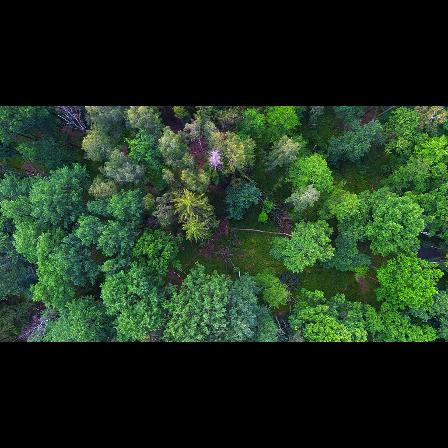Dead: (54, 106, 94, 136), (14, 315, 53, 340), (206, 144, 221, 171)
